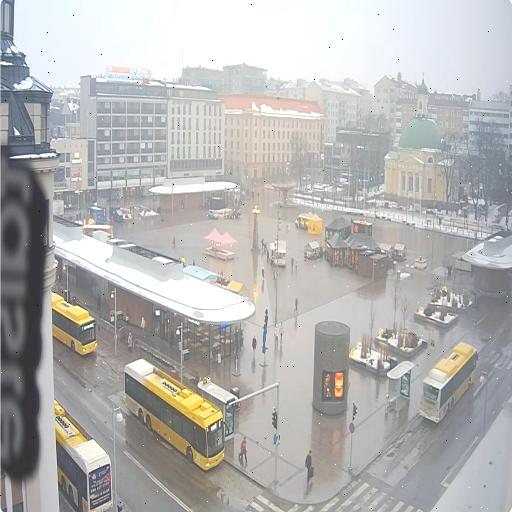bus: (124, 358, 226, 470), (54, 398, 113, 511), (420, 342, 478, 423), (52, 293, 97, 355)
